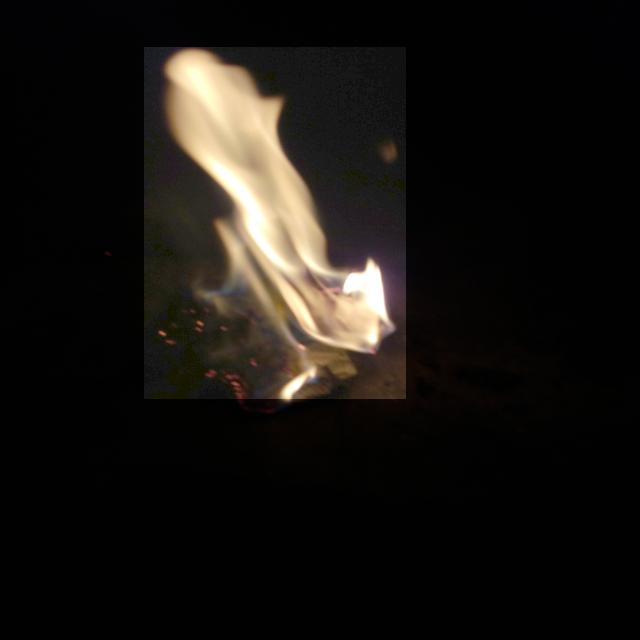Smoke: (144, 47, 406, 399)
